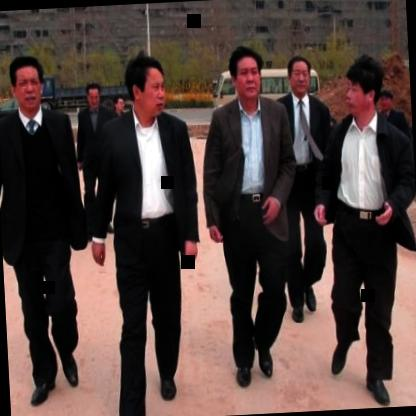head: (123, 50, 171, 122), (342, 54, 384, 122), (5, 52, 48, 114), (226, 42, 267, 104), (286, 52, 314, 98), (81, 80, 102, 112)
